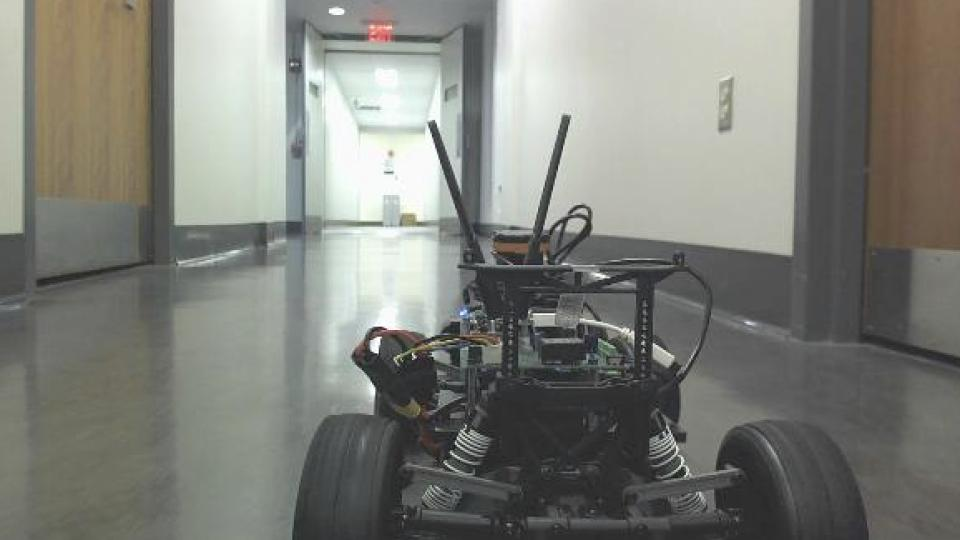car: (279, 105, 874, 540)
